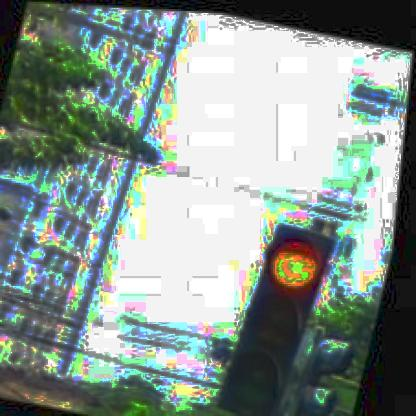Traffic Light -Red-: (221, 215, 340, 415)
